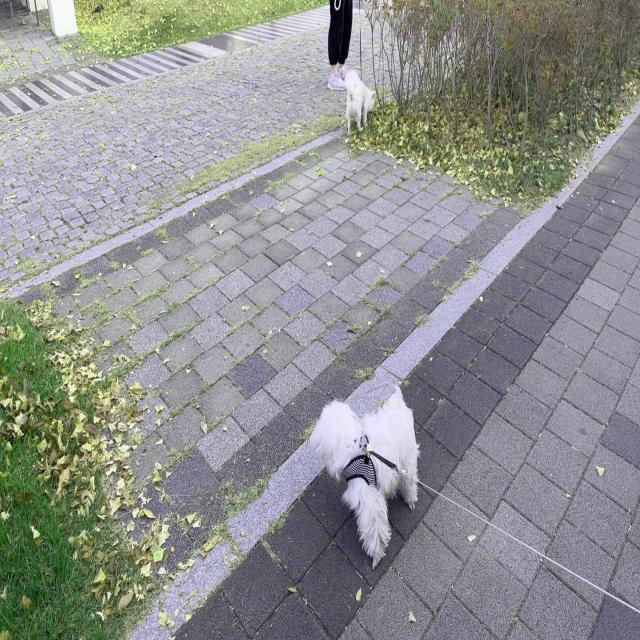Dog: (310, 382, 421, 570), (346, 67, 378, 138)
